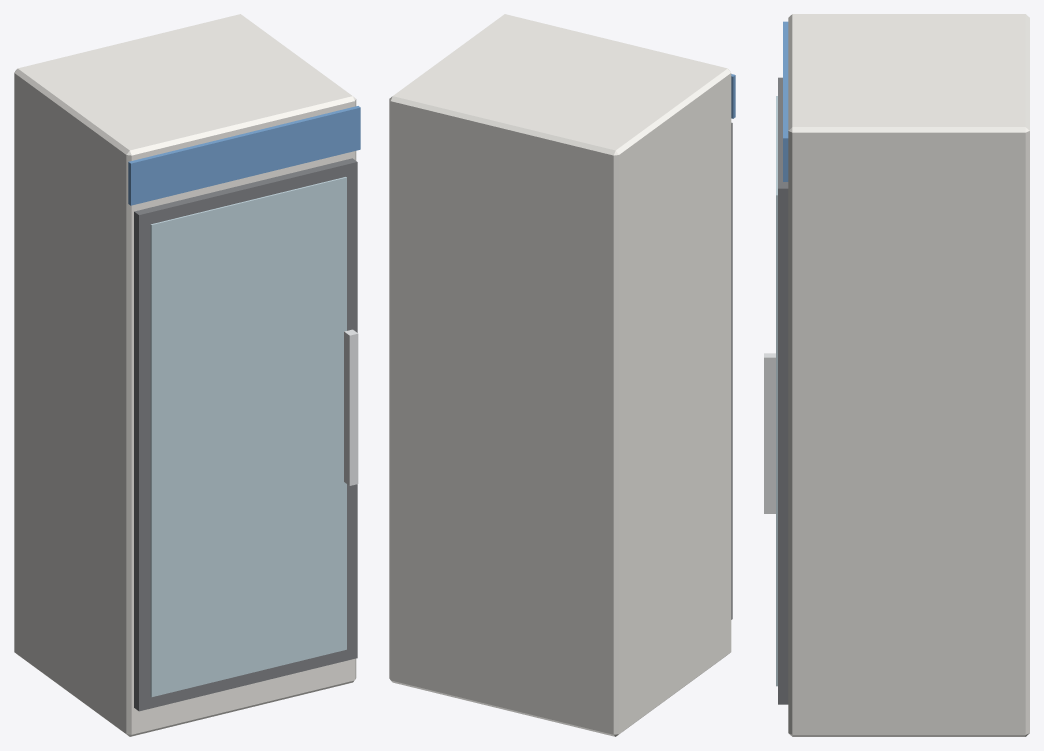
File: fridge.glb
The picture shows the model from 3 angles, left to right: view 1: azimuth 30°, elevation 25°; view 2: azimuth 150°, elevation 25°; view 3: azimuth 270°, elevation 25°; orthographic projection. The views are drawn at different scales.
Visible parts, largest first — view 1: fridge_cart_w, fridge_glass, fridge_frame, fridge_flag_b, fridge_chrome; view 2: fridge_cart_w, fridge_frame; view 3: fridge_cart_w, fridge_frame, fridge_chrome, fridge_glass, fridge_flag_b.
Part boxes in pixels (x1,y1,x2,y2): fridge_cart_w: (14,14,356,736); fridge_glass: (150,177,346,697); fridge_frame: (134,158,357,711); fridge_flag_b: (128,106,360,205); fridge_chrome: (344,329,358,485); fridge_cart_w: (389,14,731,736); fridge_frame: (731,122,732,619); fridge_cart_w: (788,14,1029,736); fridge_frame: (778,77,788,704); fridge_chrome: (764,353,775,513); fridge_glass: (776,96,777,686); fridge_flag_b: (783,21,788,181).
Bounding box in the file's own units: 0.8 × 1.95 × 0.77.
